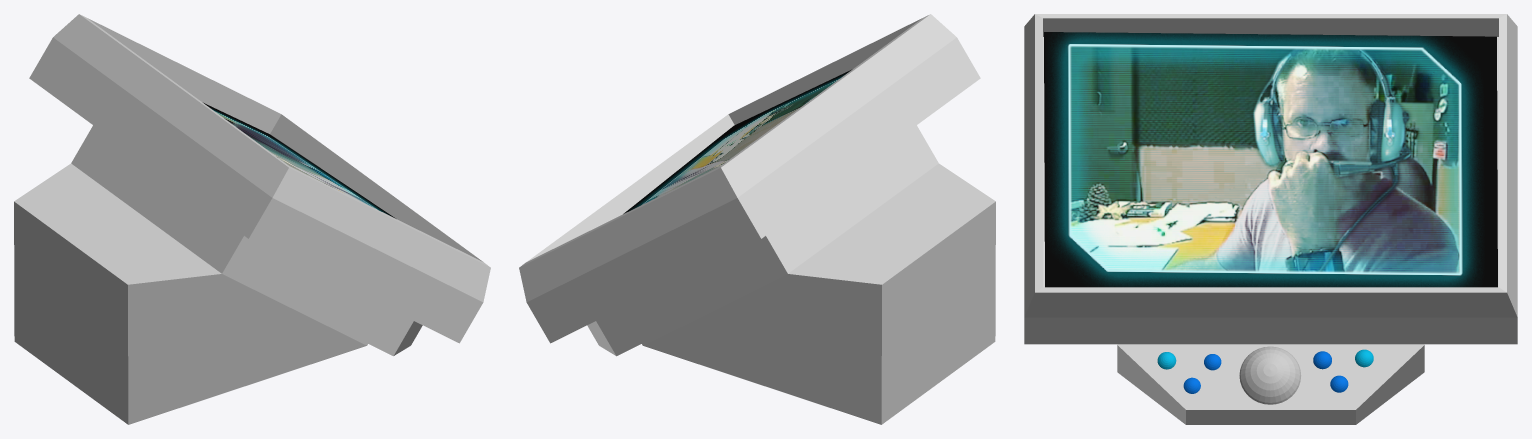
The model's file is CargoBayTerminal.fbx.
The picture shows the model from 3 angles, left to right: view 1: azimuth 30°, elevation 25°; view 2: azimuth 150°, elevation 25°; view 3: azimuth 270°, elevation 25°; orthographic projection. The views are drawn at different scales.
Visible parts, largest first — view 1: Cube.003, Plane.005; view 2: Cube.003, Plane.005; view 3: Plane.005, Cube.003, Sphere.007.
Part boxes in pixels (x1,y1,x2,y2): Cube.003: (14,14,490,424); Plane.005: (203,102,395,218); Cube.003: (519,14,995,424); Plane.005: (623,69,852,213); Plane.005: (1044,32,1497,287); Cube.003: (1024,14,1517,424); Sphere.007: (1239,346,1301,404).
Bounding box in the file's own units: 1274 × 1053 × 1533.
